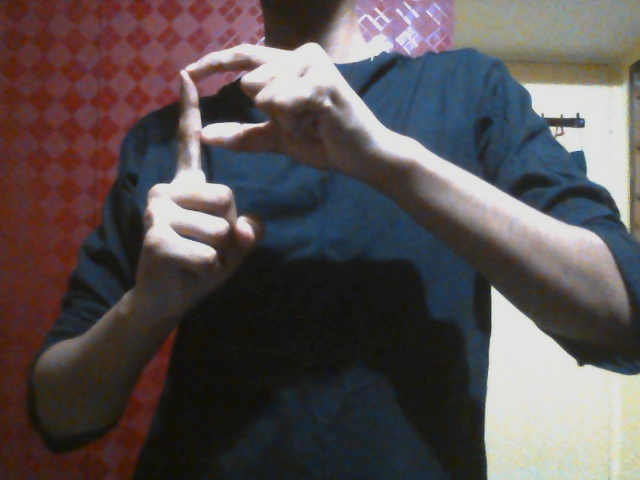P: (135, 39, 367, 305)
